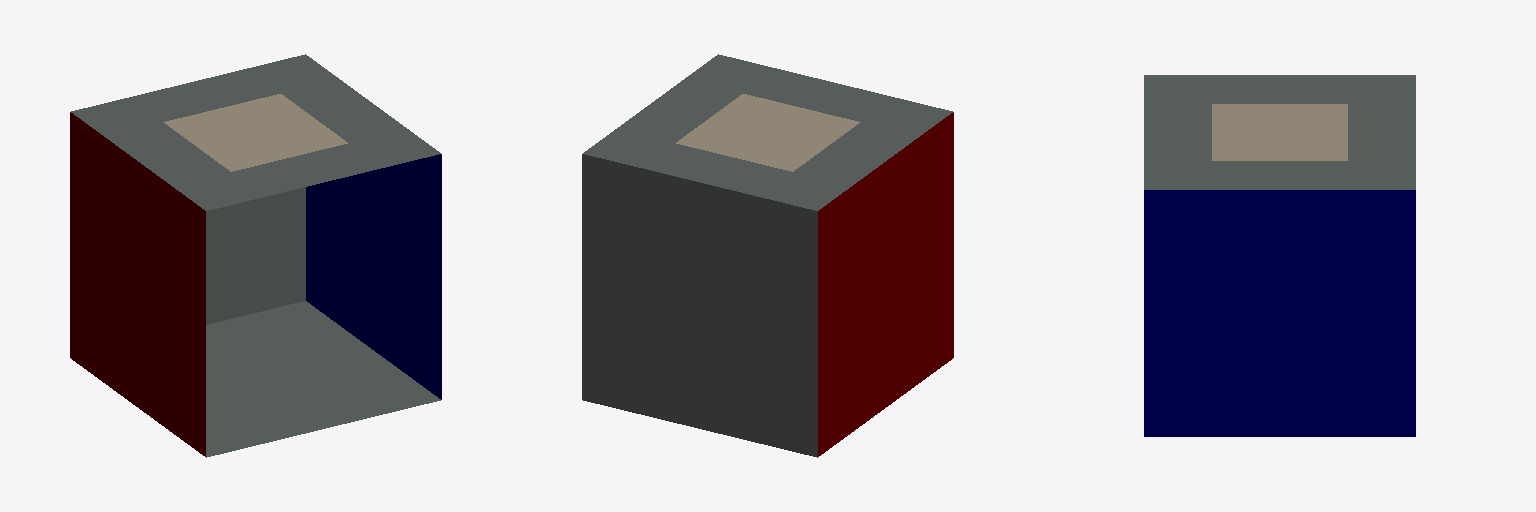
Rendered from untitled_tris.obj.
3 renders of one model, left to right at view 1: azimuth 30°, elevation 25°; view 2: azimuth 150°, elevation 25°; view 3: azimuth 270°, elevation 25°, orthographic.
Parts seen in each view (by area): view 1: Cube.001; view 2: Cube.001; view 3: Cube.001.
Part boxes in pixels (x1,y1,x2,y2): Cube.001: (70,54,441,457); Cube.001: (582,54,953,457); Cube.001: (1144,75,1415,436).
Bounding box in the file's own units: 2 × 2 × 2.